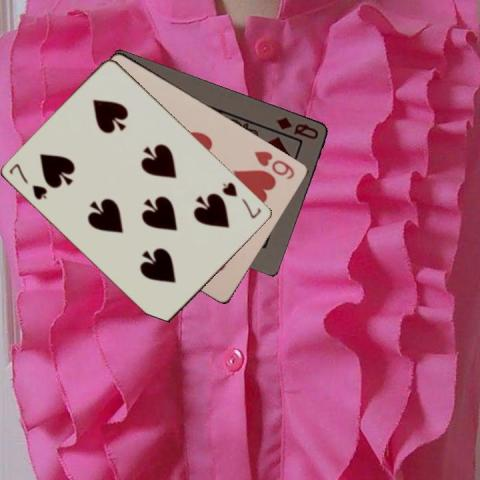6h: (251, 148, 297, 182)
7s: (220, 178, 264, 221), (7, 160, 49, 201)
Qd: (273, 113, 321, 141)
